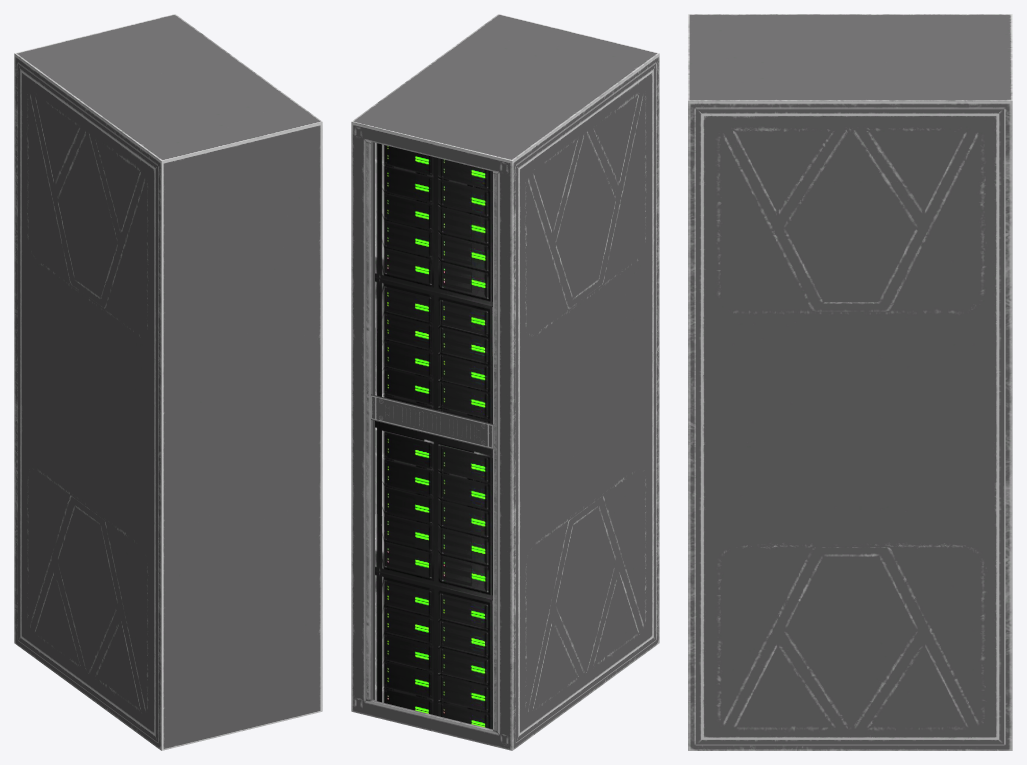
The model's file is 1Server.fbx.
The picture shows the model from 3 angles, left to right: view 1: azimuth 30°, elevation 25°; view 2: azimuth 150°, elevation 25°; view 3: azimuth 270°, elevation 25°; orthographic projection. The views are drawn at different scales.
Parts seen in each view (by area): view 1: RackServer_Pack__8_; view 2: RackServer_Pack__8_; view 3: RackServer_Pack__8_.
Part boxes in pixels (x1=…): RackServer_Pack__8_: x1=14, y1=14, x2=322, y2=750; RackServer_Pack__8_: x1=351, y1=14, x2=659, y2=750; RackServer_Pack__8_: x1=688, y1=14, x2=1012, y2=750.
Size of the model in its own units: 100 by 350 by 158.
Materials: 2 (2 with a texture image).
